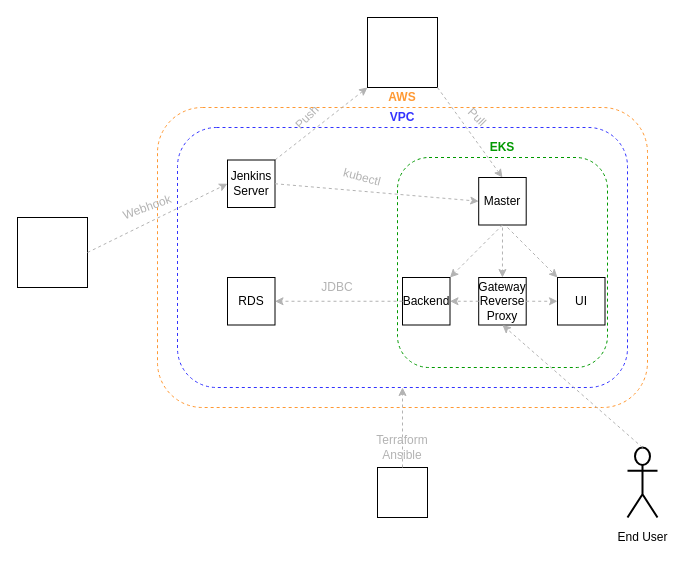
Some shapes in this 692 by 565 pixel diagram are drawn without their labels. Here are the shapes that lost their labels. From the top down, the box of each, then its label:
(366, 16, 438, 88): DockerHub
(16, 216, 88, 288): GitHub
(376, 466, 428, 518): Setup Machine
